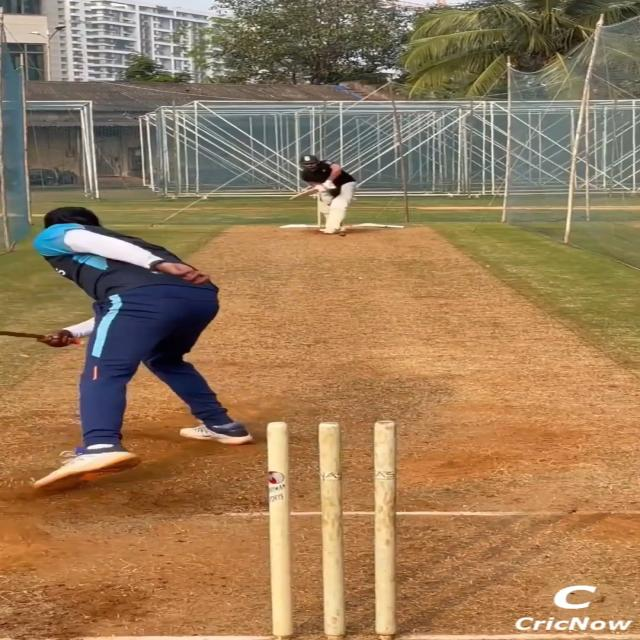stump: (261, 418, 398, 640), (339, 232, 346, 237)
